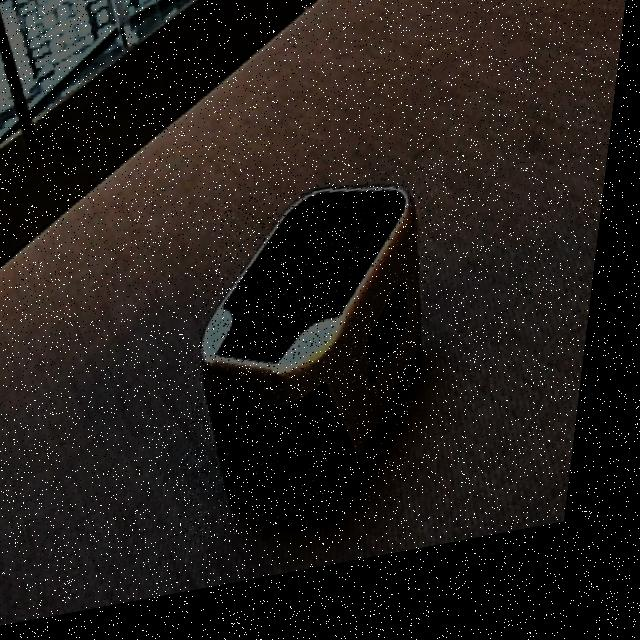adapter: (189, 179, 450, 556)
